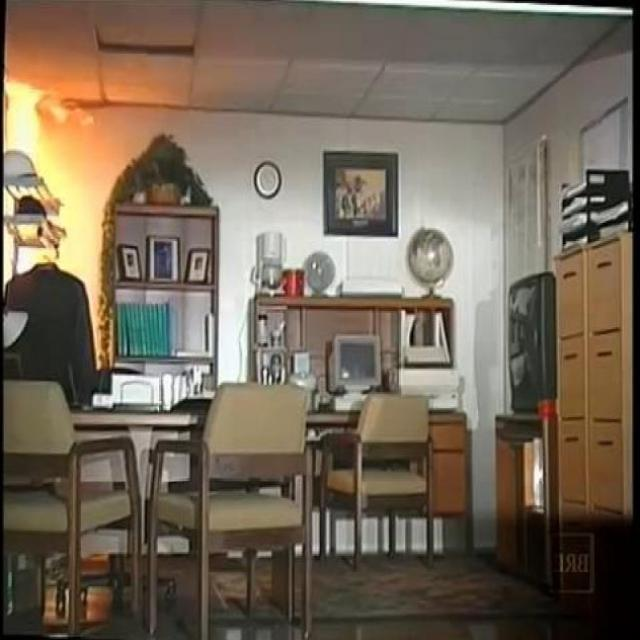smoke: (2, 59, 56, 160)
